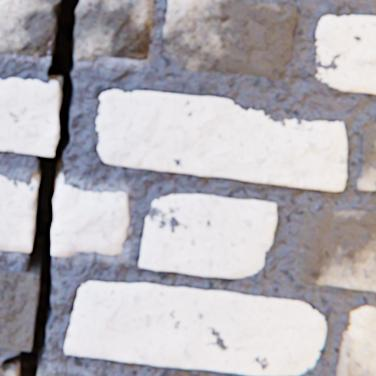brick: (96, 90, 345, 190), (65, 280, 324, 374), (138, 194, 275, 277), (163, 0, 295, 80), (293, 209, 375, 290), (315, 16, 375, 93), (0, 78, 58, 155), (0, 268, 39, 349), (335, 305, 375, 375), (356, 123, 375, 190)
broken_brick: (51, 179, 128, 255), (75, 0, 152, 60), (0, 0, 60, 57), (0, 175, 37, 251), (38, 366, 93, 375), (0, 364, 16, 375)
crack: (2, 0, 80, 375)
